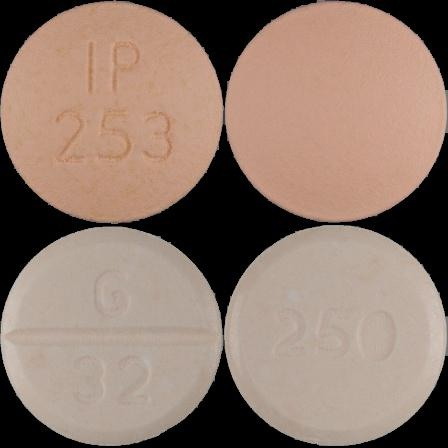51655-681: (0, 0, 224, 224)
